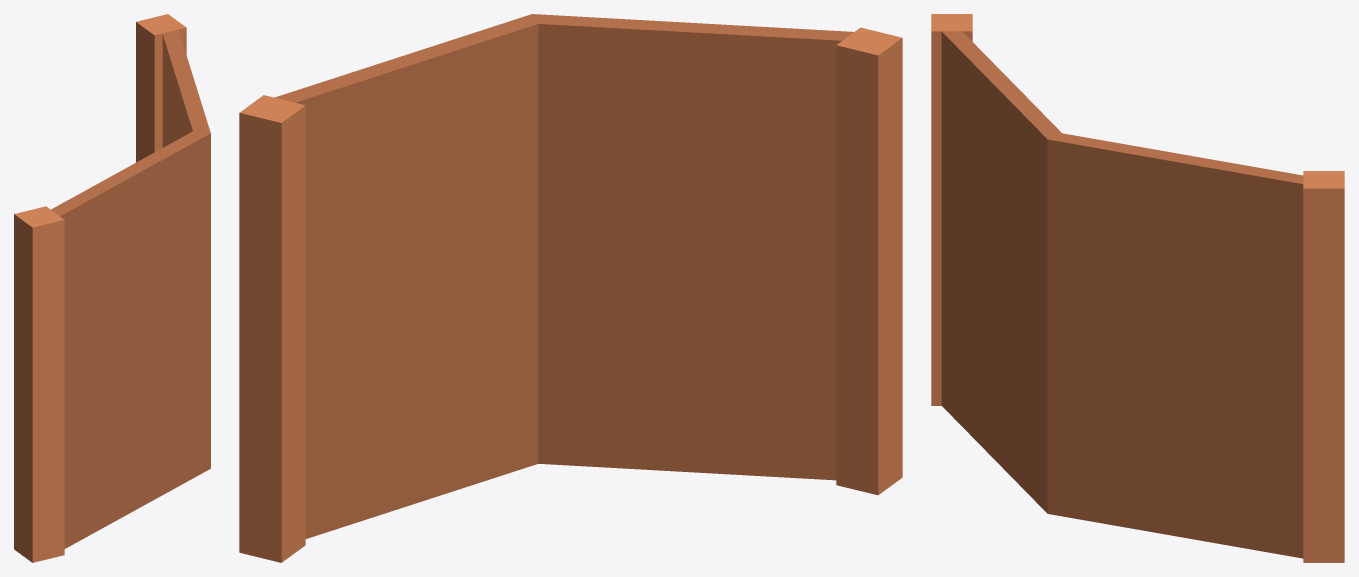
Rendered from wallWoodCornerEdge.fbx.
3 views of the same model, side by side, from view 1: azimuth 30°, elevation 25°; view 2: azimuth 150°, elevation 25°; view 3: azimuth 270°, elevation 25° (orthographic). The views are drawn at different scales.
Visible parts, largest first — view 1: wallWoodCornerEdge; view 2: wallWoodCornerEdge; view 3: wallWoodCornerEdge.
Boxes of the visible parts, x1,y1,x2,y2 form: wallWoodCornerEdge: [14, 14, 210, 562]; wallWoodCornerEdge: [239, 14, 902, 562]; wallWoodCornerEdge: [931, 14, 1344, 562].
Size of the model in its own units: 10 by 10 by 10.
